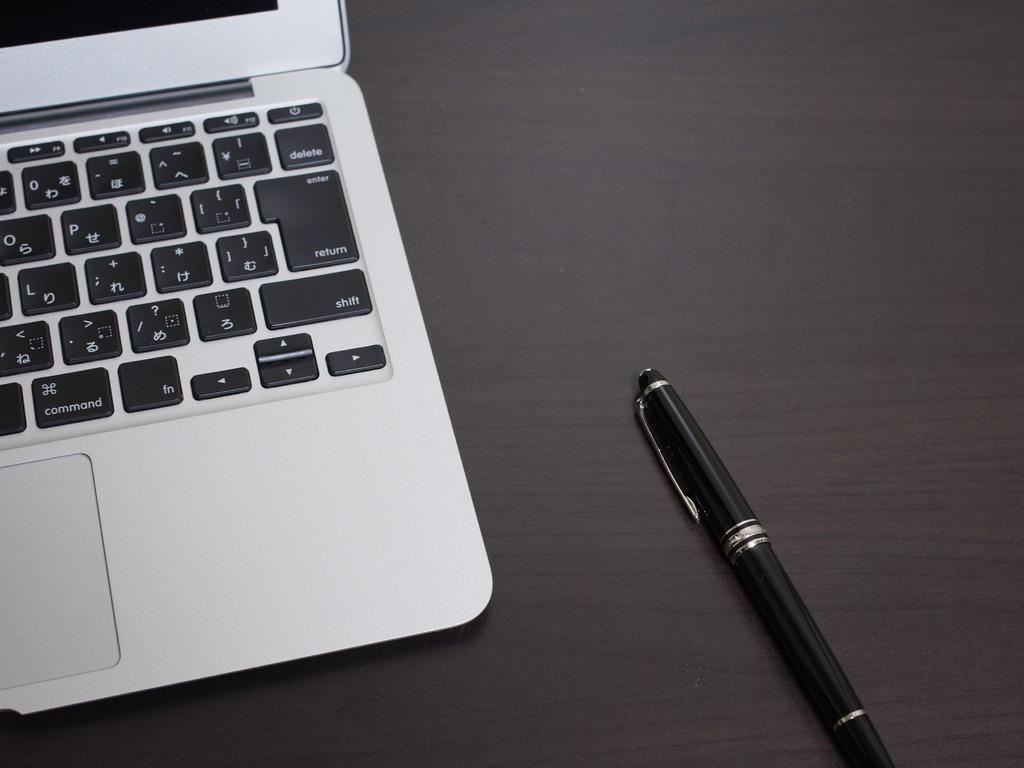pen: (639, 364, 891, 763)
